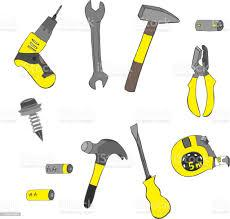hammer: (78, 136, 128, 208)
